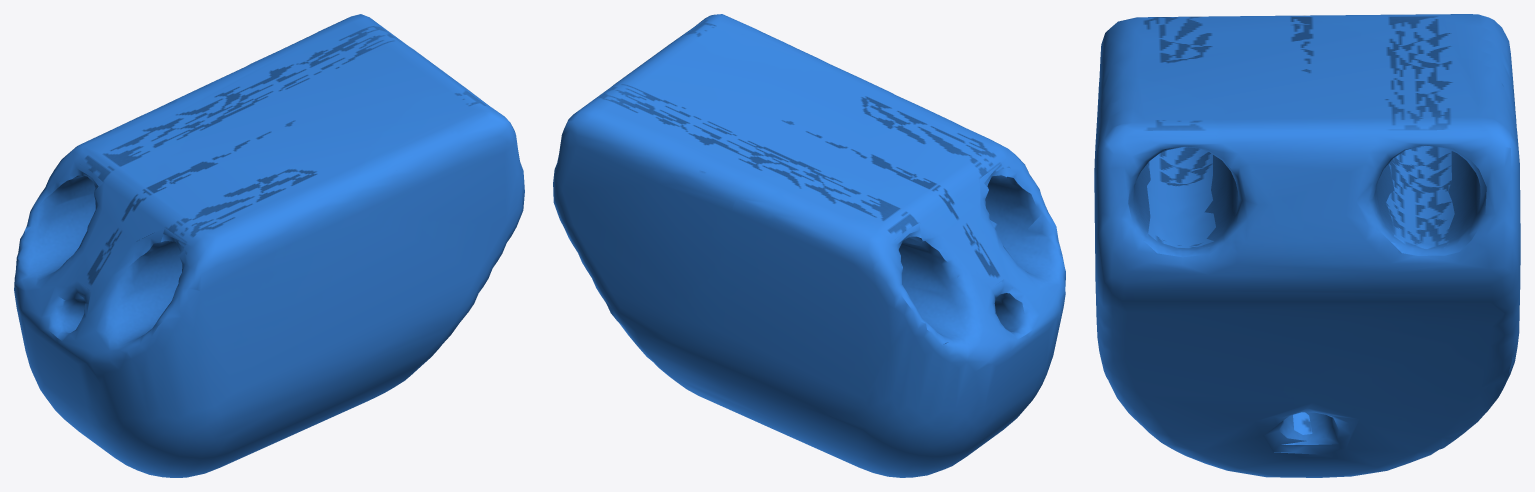
File: right_thomb_upper.glb
3 views of the same model, side by side, from view 1: azimuth 30°, elevation 25°; view 2: azimuth 150°, elevation 25°; view 3: azimuth 270°, elevation 25° (orthographic). The views are drawn at different scales.
Parts seen in each view (by area): view 1: right_thomb_upper; view 2: right_thomb_upper; view 3: right_thomb_upper.
Boxes of the visible parts, box(x1,y1,x2,y2) form: right_thomb_upper: box(14, 14, 524, 477); right_thomb_upper: box(553, 14, 1065, 477); right_thomb_upper: box(1094, 14, 1520, 477).
Size of the model in its own units: 0.0202 by 0.016 by 0.0132.
1 material, 1 textured.
